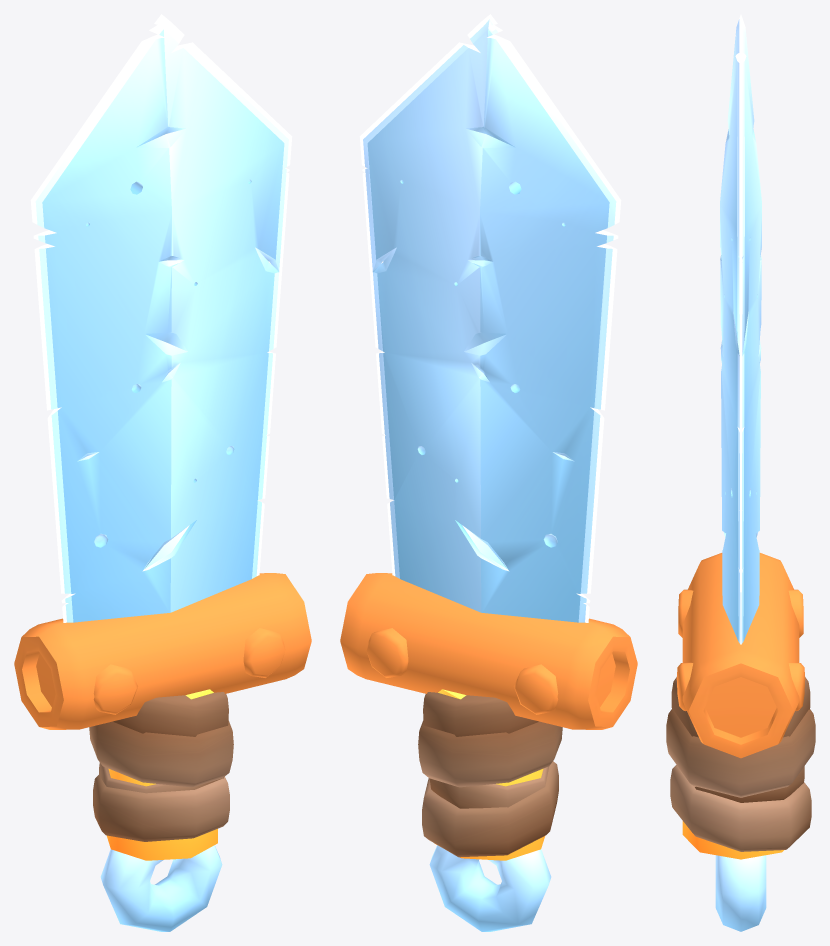
Rendered from example_sword_010.glb.
The picture shows the model from 3 angles, left to right: view 1: azimuth 30°, elevation 25°; view 2: azimuth 150°, elevation 25°; view 3: azimuth 270°, elevation 25°; orthographic projection.
Parts seen in each view (by area): view 1: example_sword.010; view 2: example_sword.010; view 3: example_sword.010.
Boxes of the visible parts, x1=… form: example_sword.010: x1=14, y1=14, x2=311, y2=931; example_sword.010: x1=340, y1=14, x2=637, y2=931; example_sword.010: x1=666, y1=14, x2=815, y2=931.
Size of the model in its own units: 5.17 by 17.34 by 2.57.
1 material, 1 textured.
